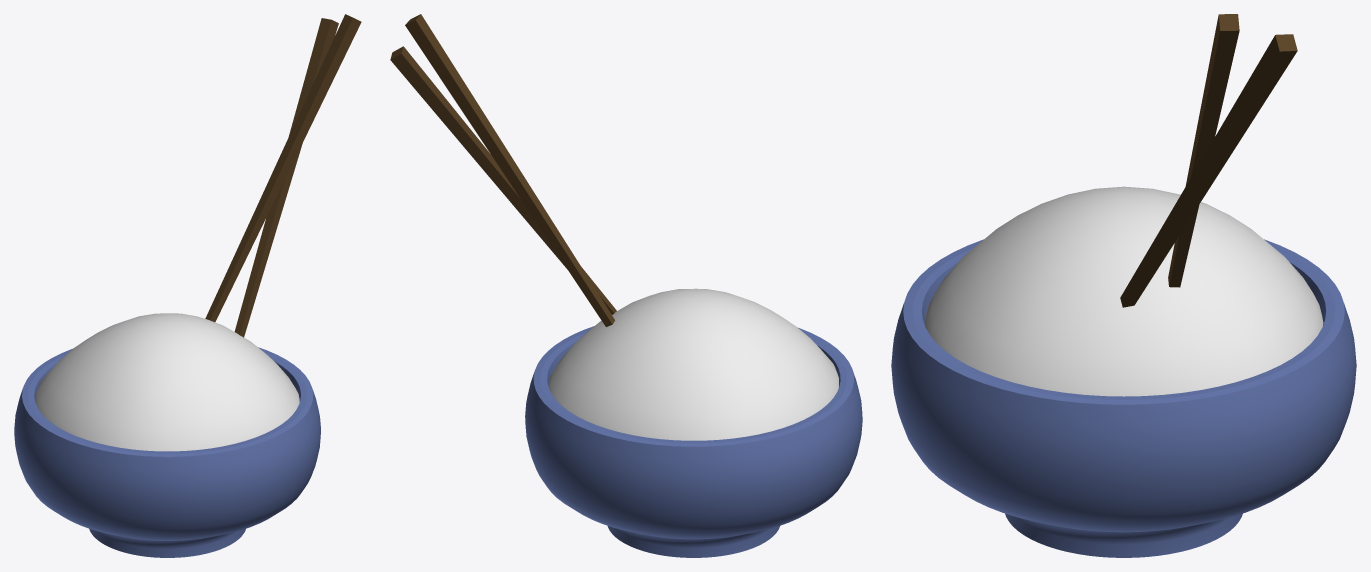
File: rice.fbx
The picture shows the model from 3 angles, left to right: view 1: azimuth 30°, elevation 25°; view 2: azimuth 150°, elevation 25°; view 3: azimuth 270°, elevation 25°; orthographic projection. The views are drawn at different scales.
Parts seen in each view (by area): view 1: Bowl, Rice, Chopsticks; view 2: Bowl, Rice, Chopsticks; view 3: Bowl, Rice, Chopsticks.
Part boxes in pixels (bbox=[...]): Bowl: bbox=[14, 347, 320, 557]; Rice: bbox=[35, 313, 299, 451]; Chopsticks: bbox=[205, 14, 361, 337]; Bowl: bbox=[525, 326, 862, 557]; Rice: bbox=[548, 288, 838, 440]; Chopsticks: bbox=[390, 14, 616, 326]; Bowl: bbox=[891, 239, 1356, 557]; Rice: bbox=[924, 186, 1323, 396]; Chopsticks: bbox=[1120, 14, 1297, 307].
Size of the model in its own units: 324 by 372 by 240.
